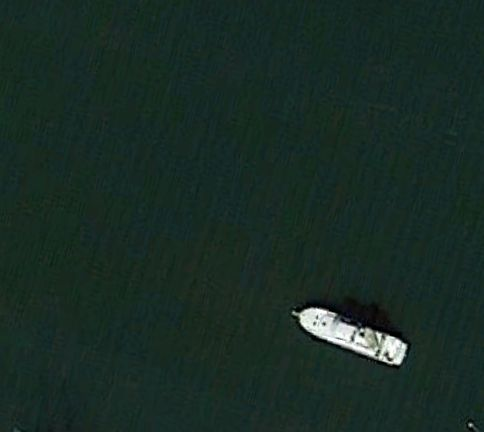boat: (288, 304, 411, 367)
